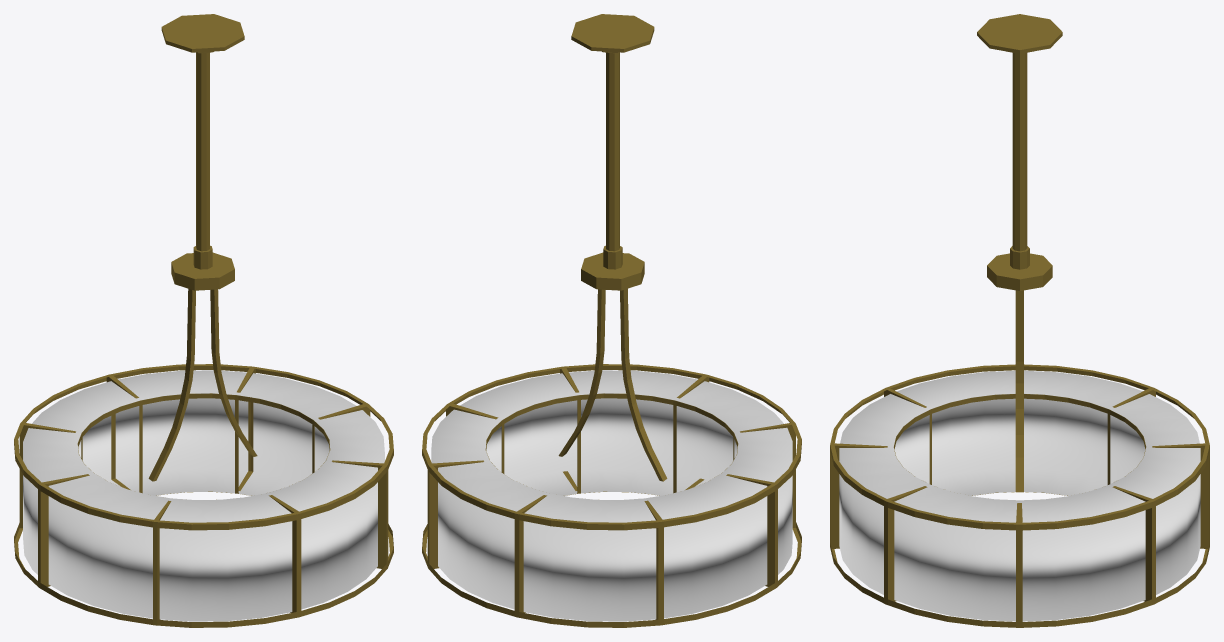
File: L2_F1_DTLight.fbx
The picture shows the model from 3 angles, left to right: view 1: azimuth 30°, elevation 25°; view 2: azimuth 150°, elevation 25°; view 3: azimuth 270°, elevation 25°; orthographic projection.
Visible parts, largest first — view 1: L2_F1_DTLight; view 2: L2_F1_DTLight; view 3: L2_F1_DTLight.
Boxes of the visible parts, left/top/right/bottom form: L2_F1_DTLight: left=14, top=14, right=393, bottom=627; L2_F1_DTLight: left=422, top=14, right=801, bottom=627; L2_F1_DTLight: left=830, top=14, right=1209, bottom=627.
Size of the model in its own units: 0.7431 by 1.11 by 0.7431.
